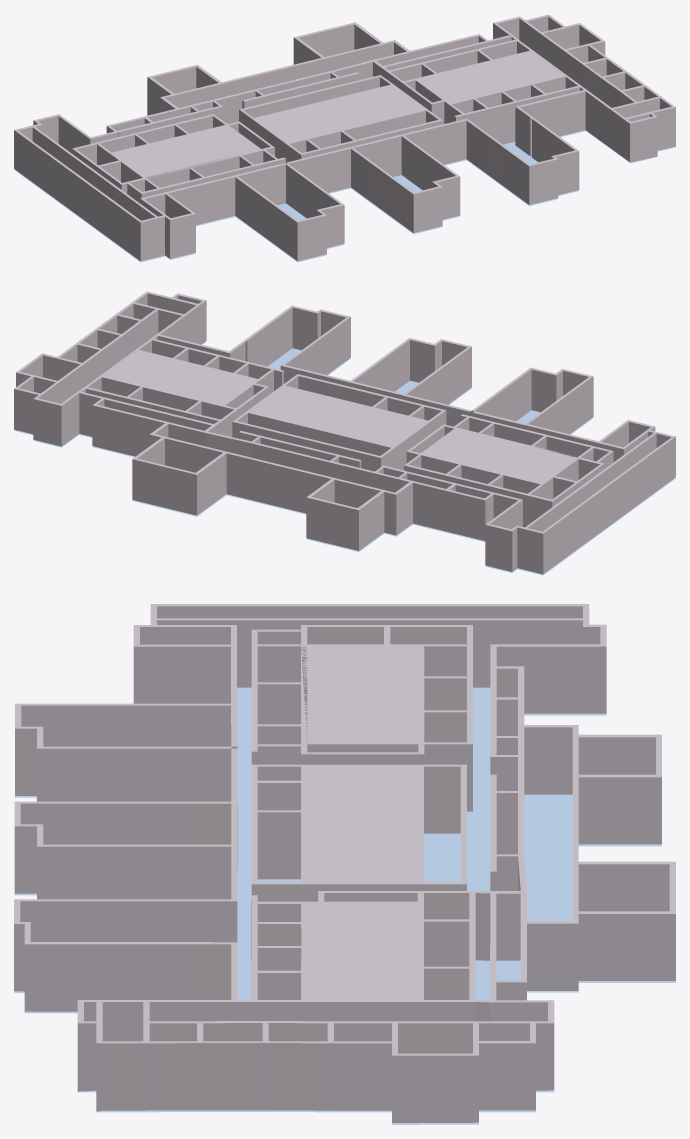
The model's file is EHUSETvåning0utanrumblend.glb.
3 views of the same model, one above another, from view 1: azimuth 30°, elevation 25°; view 2: azimuth 150°, elevation 25°; view 3: azimuth 270°, elevation 25° (orthographic). The views are drawn at different scales.
Visible parts, largest first — view 1: Plane, Plane.001; view 2: Plane, Plane.001; view 3: Plane, Plane.001.
Boxes of the visible parts, <box> form: Plane: <box>14,14,675,261</box>; Plane.001: <box>14,130,675,262</box>; Plane: <box>14,291,675,574</box>; Plane.001: <box>14,342,675,575</box>; Plane: <box>14,604,675,1122</box>; Plane.001: <box>14,687,675,1124</box>.
Bounding box in the file's own units: 346 × 24.75 × 214.
